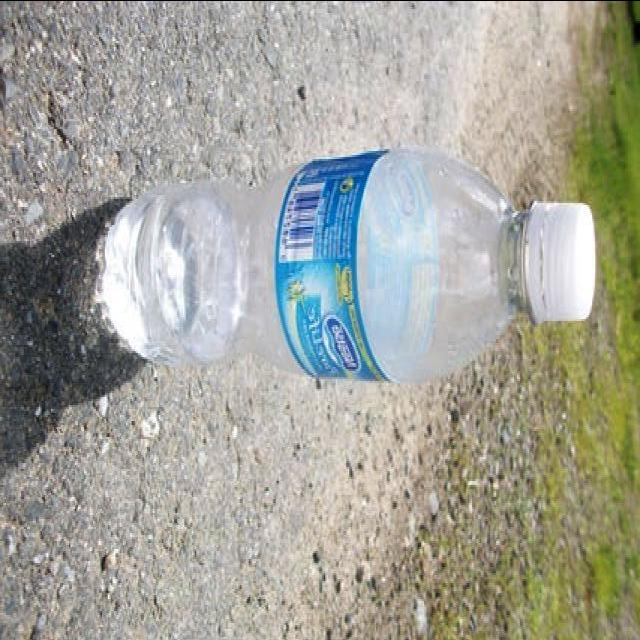cap: (524, 200, 600, 330)
label: (277, 138, 385, 388)
not-crumbled: (90, 136, 597, 388)
